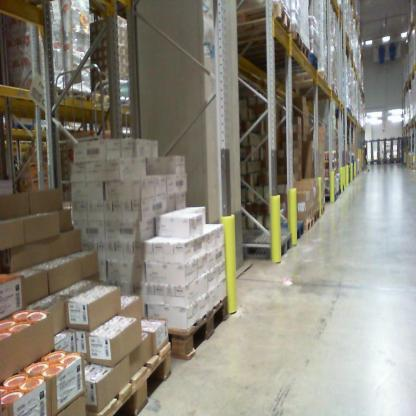pallet: (92, 342, 173, 415), (160, 289, 232, 363), (223, 3, 294, 36), (233, 26, 302, 59), (248, 45, 311, 71), (272, 54, 321, 75), (270, 218, 305, 243), (87, 92, 118, 108), (297, 216, 314, 234), (312, 206, 321, 224), (320, 203, 326, 219)
